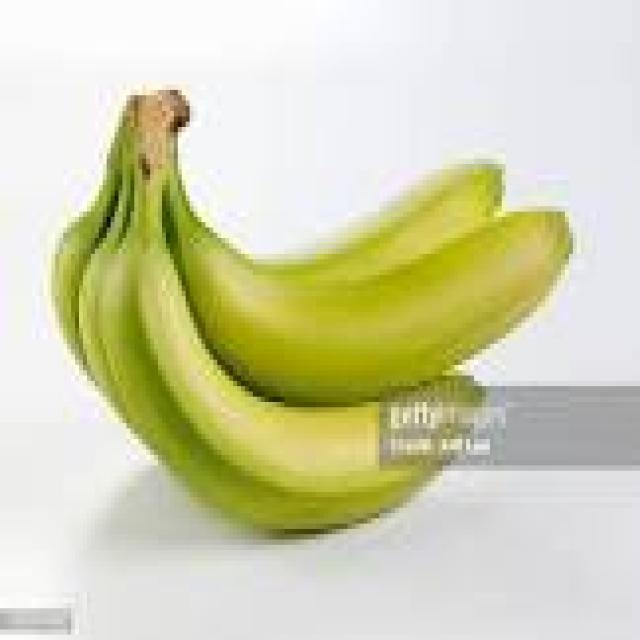banana: (56, 96, 568, 528), (99, 191, 442, 528), (166, 154, 572, 401), (131, 175, 422, 497), (170, 191, 572, 401), (257, 159, 501, 285), (52, 117, 126, 375), (80, 159, 134, 412), (52, 170, 118, 370)
